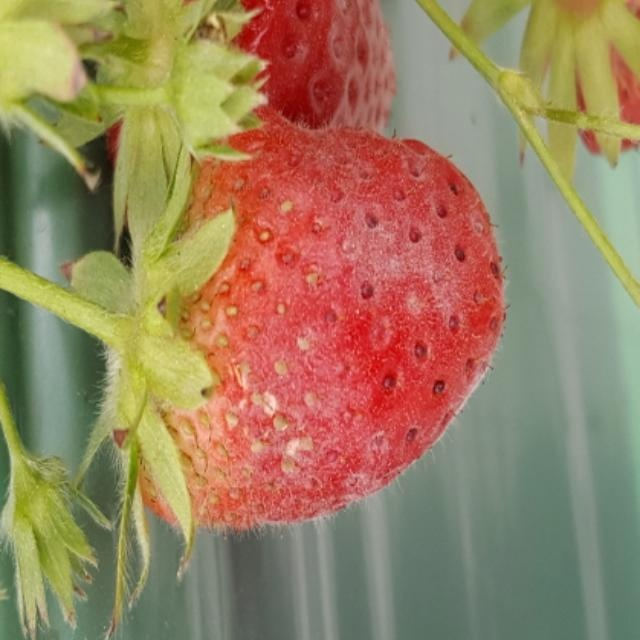Powdery Mildew Fruit: (113, 97, 505, 530)
